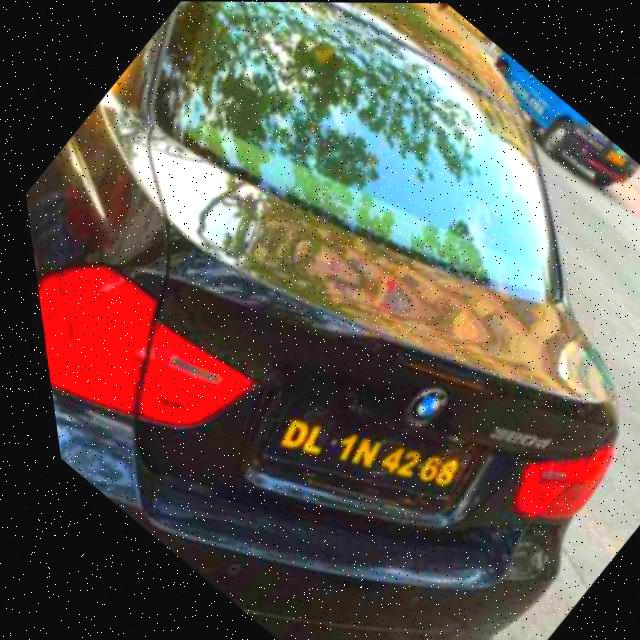license_plate: (213, 328, 491, 582)
